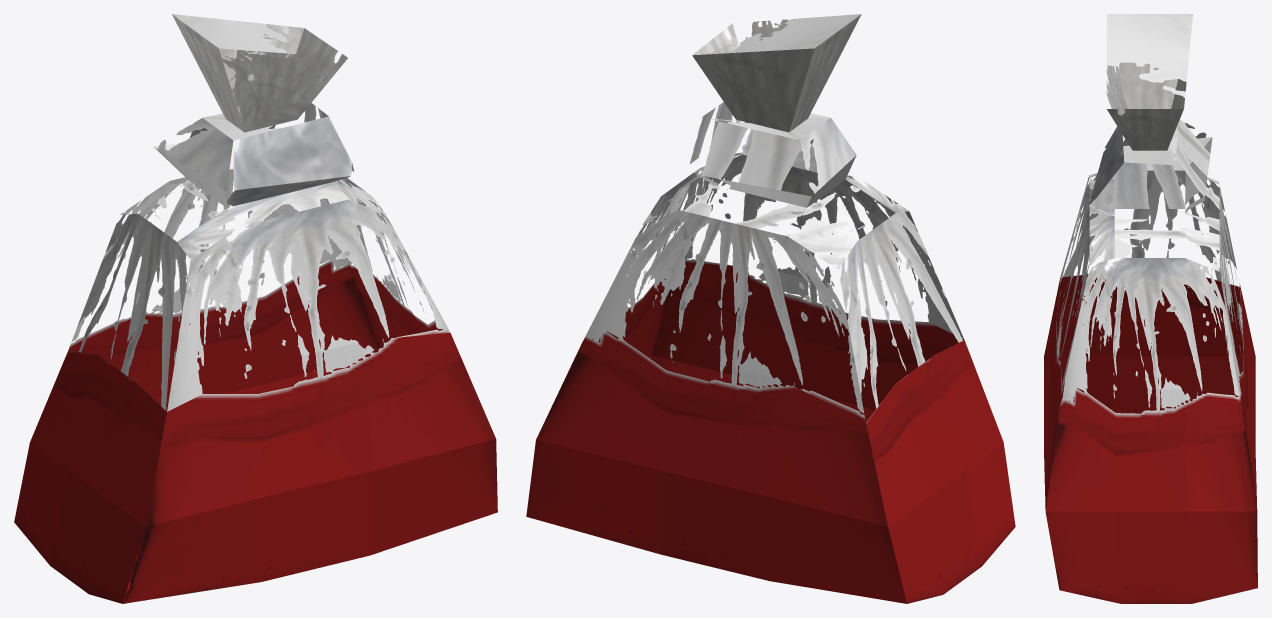
File: bloodpack.fbx
3 renders of one model, left to right at view 1: azimuth 30°, elevation 25°; view 2: azimuth 150°, elevation 25°; view 3: azimuth 270°, elevation 25°, orthographic. The views are drawn at different scales.
Visible parts, largest first — view 1: Cube; view 2: Cube; view 3: Cube.
Boxes of the visible parts, bbox=[...] form: Cube: bbox=[14, 14, 497, 603]; Cube: bbox=[526, 14, 1015, 603]; Cube: bbox=[1044, 14, 1257, 603].
Bounding box in the file's own units: 202 × 271 × 108.
Materials: 1 (1 with a texture image).
